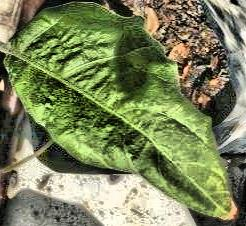HEALTHY: (1, 1, 246, 226)
